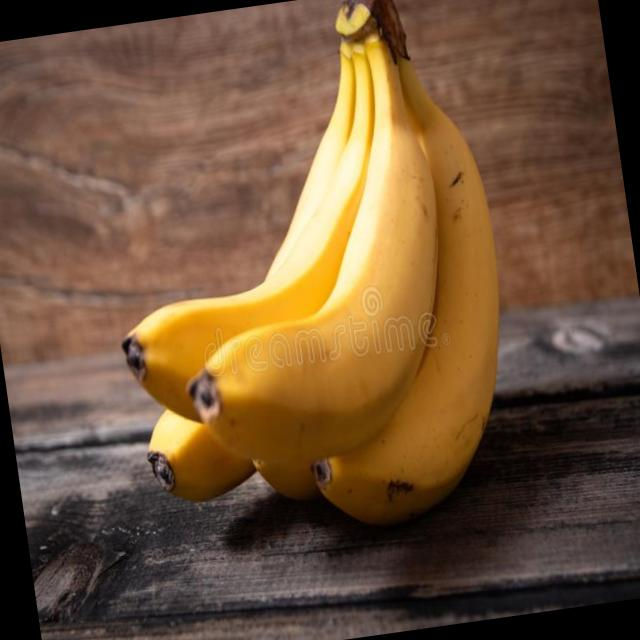Platano: (78, 0, 533, 559)
